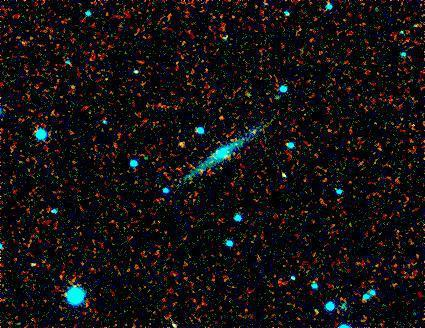star: (165, 131, 195, 161)
